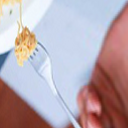fork: (5, 11, 80, 128)
